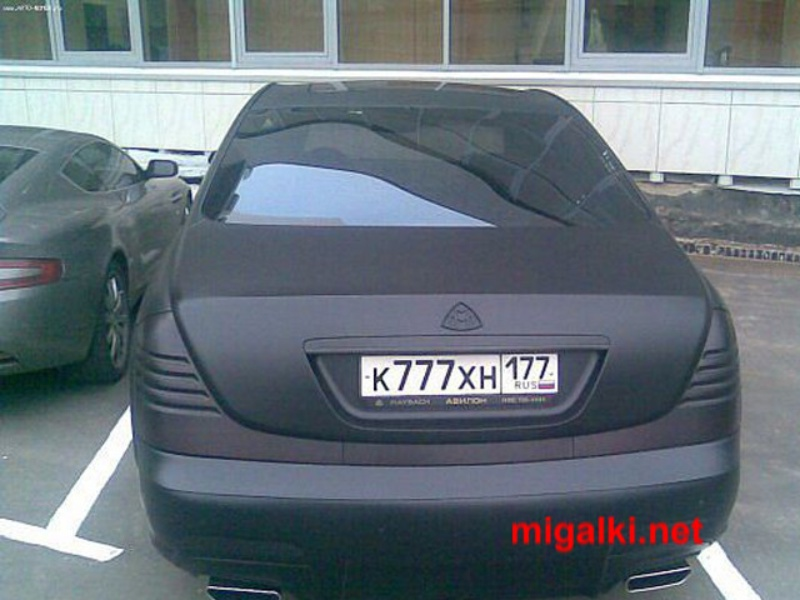car: (129, 82, 742, 600), (1, 123, 192, 388)
plate: (361, 352, 558, 394)
